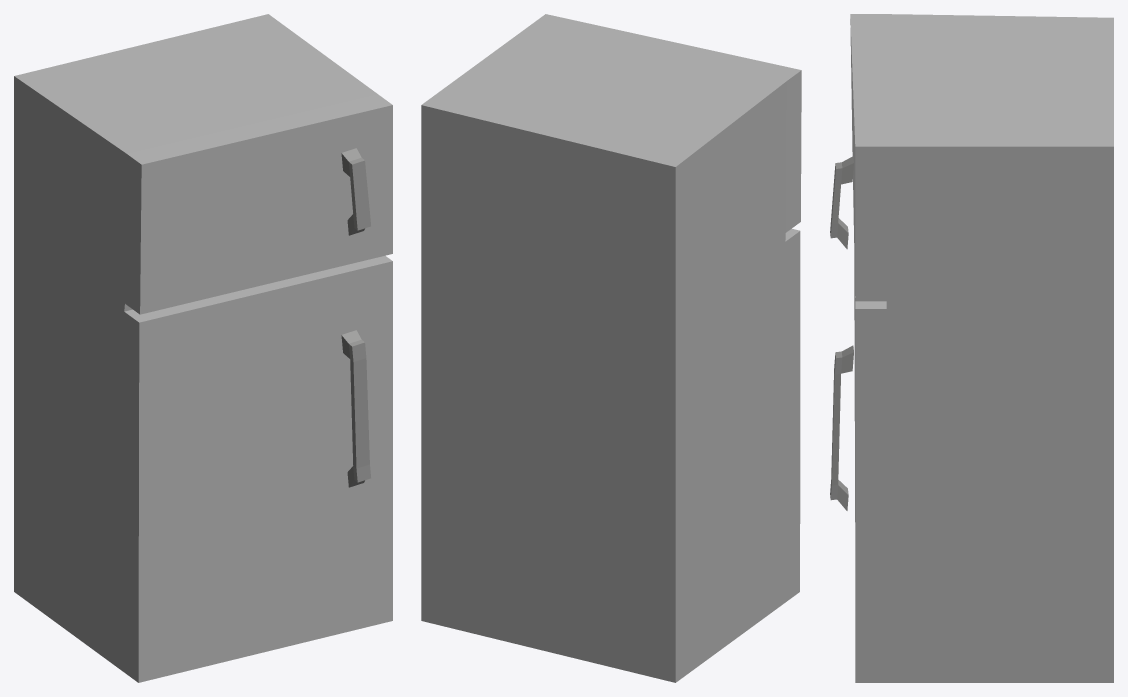
File: Fridge_Fixed.fbx
3 views of the same model, side by side, from view 1: azimuth 30°, elevation 25°; view 2: azimuth 150°, elevation 25°; view 3: azimuth 270°, elevation 25° (orthographic). The views are drawn at different scales.
Visible parts, largest first — view 1: polySurface14; view 2: polySurface14; view 3: polySurface14.
Boxes of the visible parts, x1,y1,x2,y2 form: polySurface14: (14, 14, 392, 682); polySurface14: (421, 14, 801, 682); polySurface14: (830, 14, 1113, 682).
Size of the model in its own units: 91.22 by 178 by 84.81.
